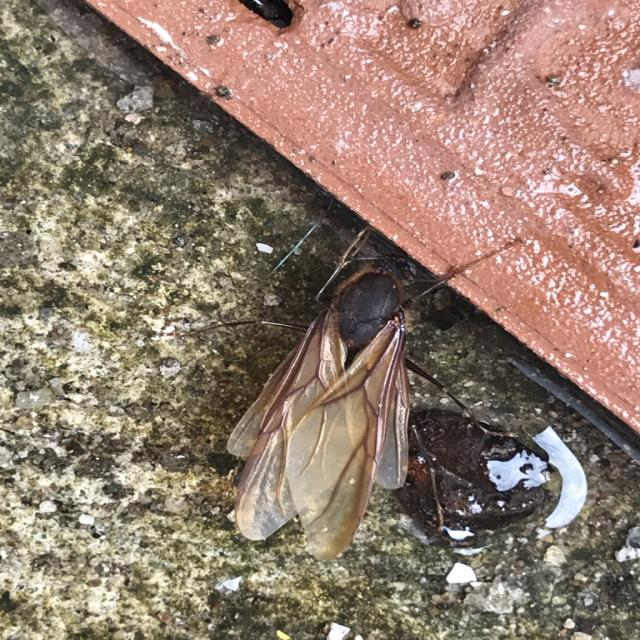Alive-Male-Alate: (176, 225, 526, 562)
